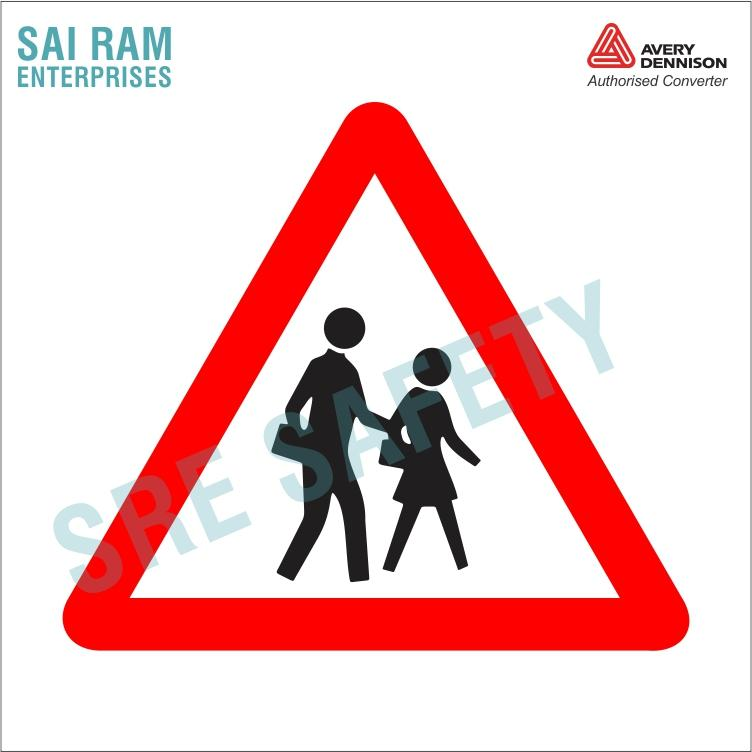School Ahead: (62, 77, 692, 662)
